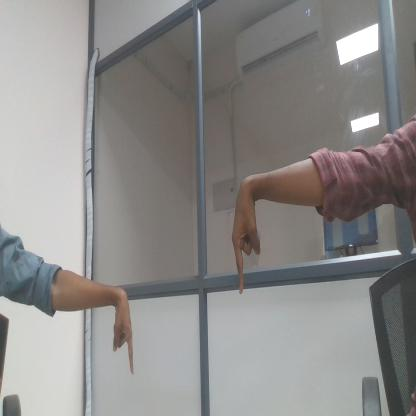Down: (225, 179, 268, 308), (114, 285, 138, 378)
